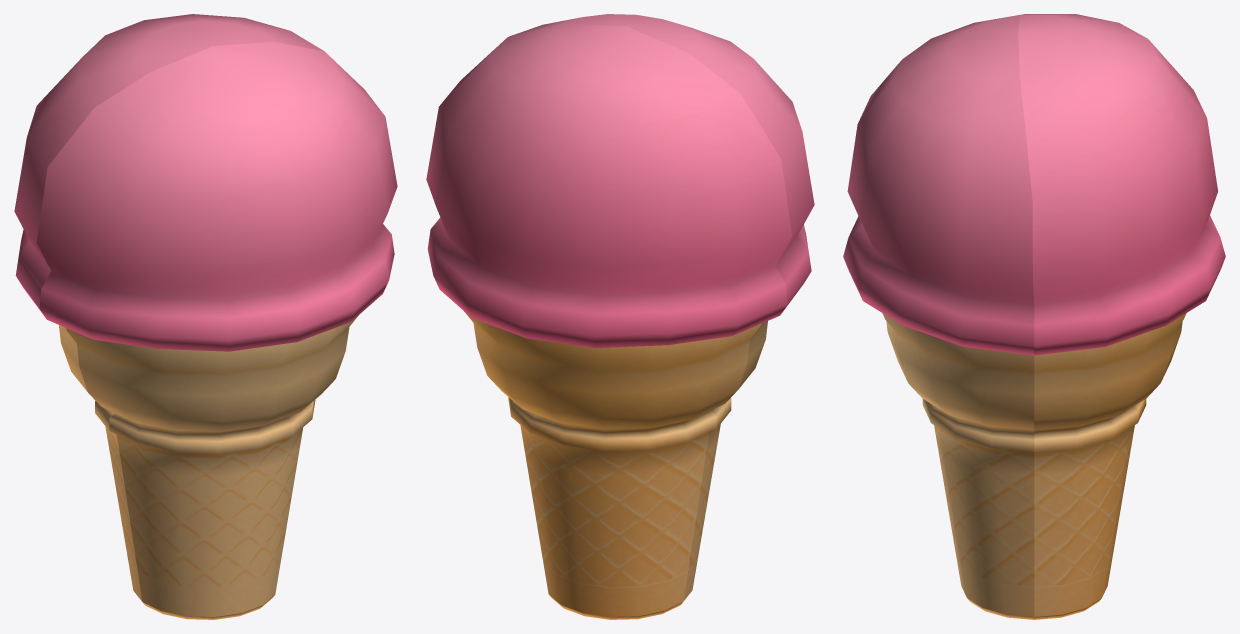
File: IceCream Cone.fbx
3 views of the same model, side by side, from view 1: azimuth 30°, elevation 25°; view 2: azimuth 150°, elevation 25°; view 3: azimuth 270°, elevation 25° (orthographic).
Parts seen in each view (by area): view 1: IceCreamCone_1; view 2: IceCreamCone_1; view 3: IceCreamCone_1.
Boxes of the visible parts, x1,y1,x2,y2 form: IceCreamCone_1: [14, 14, 397, 619]; IceCreamCone_1: [426, 14, 814, 619]; IceCreamCone_1: [843, 14, 1225, 619].
Bounding box in the file's own units: 31.02 × 48.17 × 30.05.
1 material, 1 textured.
